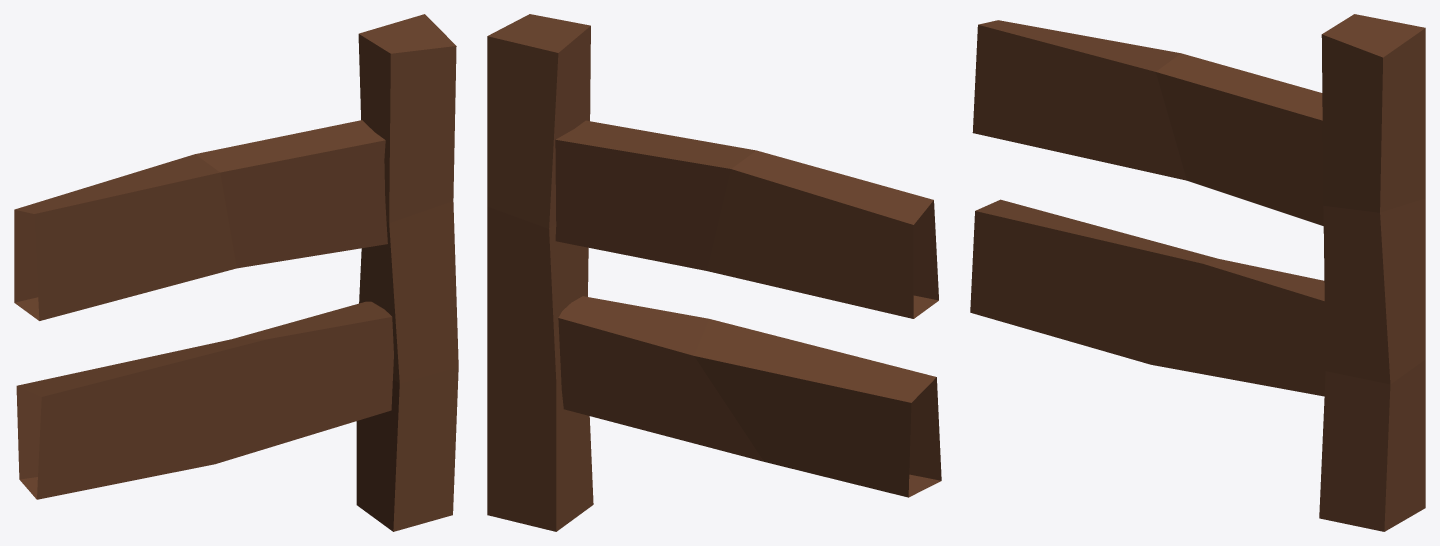
Rendered from wooden_fence.glb.
The picture shows the model from 3 angles, left to right: view 1: azimuth 30°, elevation 25°; view 2: azimuth 150°, elevation 25°; view 3: azimuth 330°, elevation 25°; orthographic projection.
Visible parts, largest first — view 1: Mesh.001; view 2: Mesh.001; view 3: Mesh.001.
Boxes of the visible parts, left/top/right/bottom form: Mesh.001: left=14, top=14, right=458, bottom=531; Mesh.001: left=487, top=14, right=941, bottom=531; Mesh.001: left=970, top=14, right=1425, bottom=531.
Size of the model in its own units: 1.16 by 1.26 by 0.1769.
